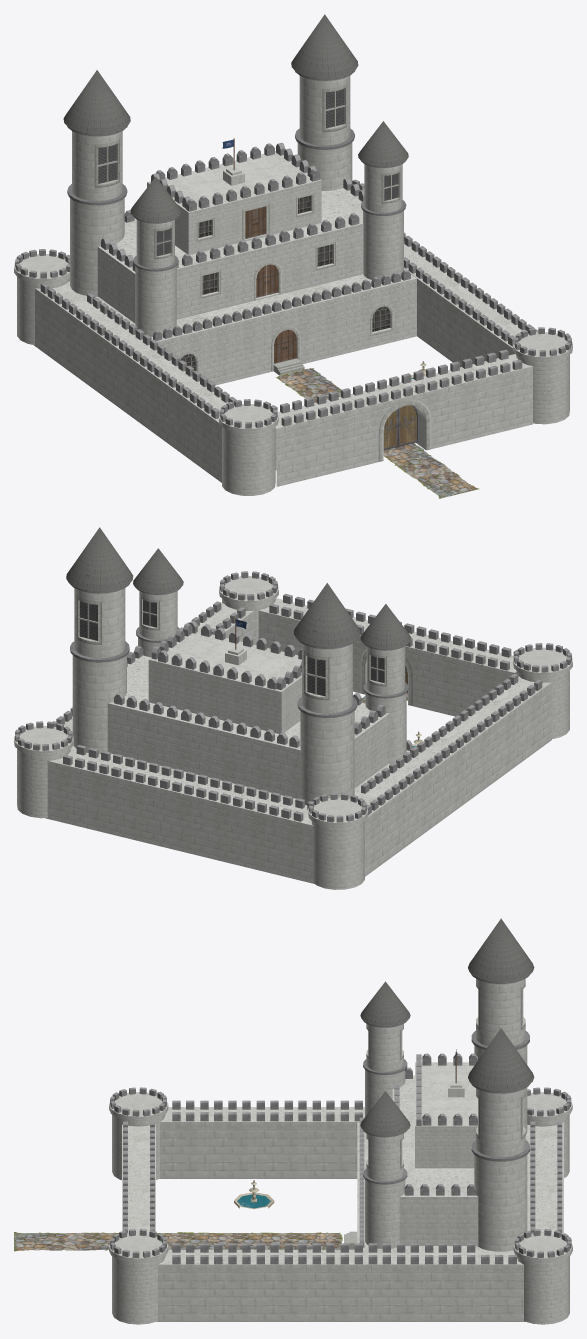
Rendered from castle.obj.
3 views of the same model, one above another, from view 1: azimuth 30°, elevation 25°; view 2: azimuth 150°, elevation 25°; view 3: azimuth 270°, elevation 25° (orthographic).
Parts seen in each view (by area): view 1: Castle_Exterior, Castle_Interior, Towers_Doors_and_Windows, Ground_and_Fountain; view 2: Castle_Exterior, Towers_Doors_and_Windows, Castle_Interior; view 3: Castle_Exterior, Towers_Doors_and_Windows, Castle_Interior, Ground_and_Fountain.
Part boxes in pixels (left/top/right/bottom): Castle_Exterior: left=14, top=179, right=572, bottom=495; Castle_Interior: left=68, top=138, right=416, bottom=385; Towers_Doors_and_Windows: left=63, top=14, right=418, bottom=450; Ground_and_Fountain: left=275, top=361, right=478, bottom=498; Castle_Exterior: left=14, top=571, right=572, bottom=889; Towers_Doors_and_Windows: left=66, top=527, right=411, bottom=805; Castle_Interior: left=71, top=618, right=412, bottom=806; Castle_Exterior: left=109, top=1087, right=572, bottom=1324; Towers_Doors_and_Windows: left=344, top=918, right=534, bottom=1251; Castle_Interior: left=357, top=1049, right=528, bottom=1249; Ground_and_Fountain: left=14, top=1180, right=342, bottom=1251.
Size of the model in its own units: 53.37 by 40.26 by 75.6.
